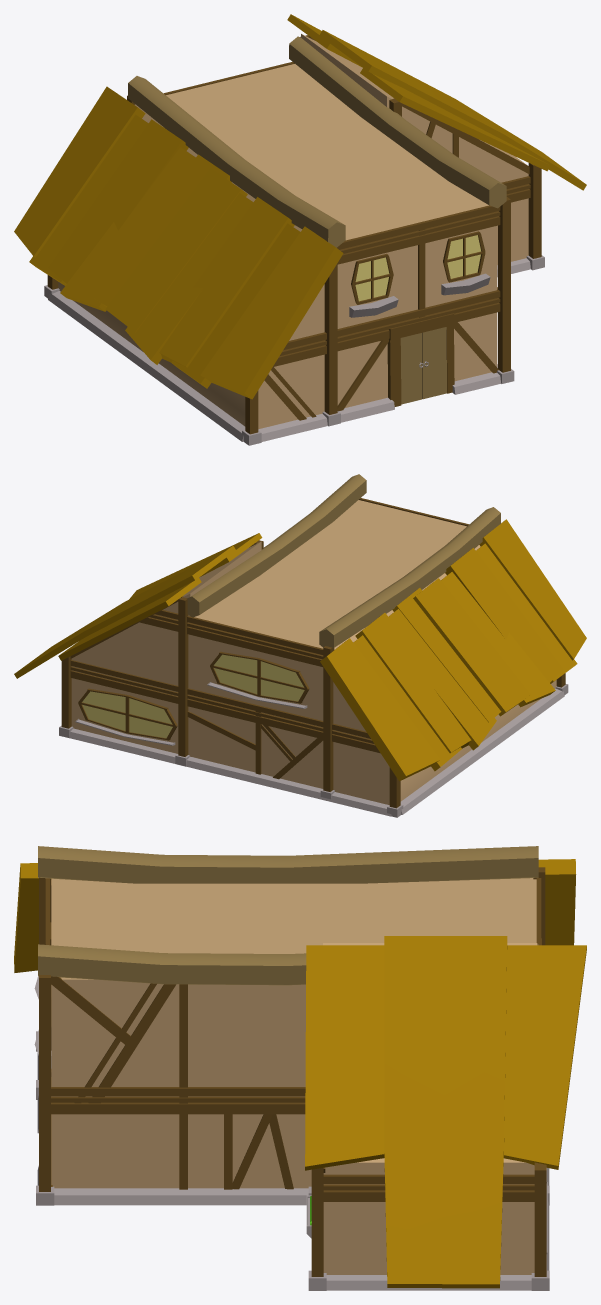
Rendered from mesh_Flat_house_1.fbx.
3 views of the same model, one above another, from view 1: azimuth 30°, elevation 25°; view 2: azimuth 150°, elevation 25°; view 3: azimuth 270°, elevation 25° (orthographic). The views are drawn at different scales.
Visible parts, largest first — view 1: Flat_house_1; view 2: Flat_house_1; view 3: Flat_house_1.
Part boxes in pixels (x1=…): Flat_house_1: x1=14, y1=14, x2=586, y2=445; Flat_house_1: x1=14, y1=474, x2=586, y2=817; Flat_house_1: x1=14, y1=846, x2=586, y2=1290.
Size of the model in its own units: 1897 by 748 by 1447.
1 material, 1 textured.
